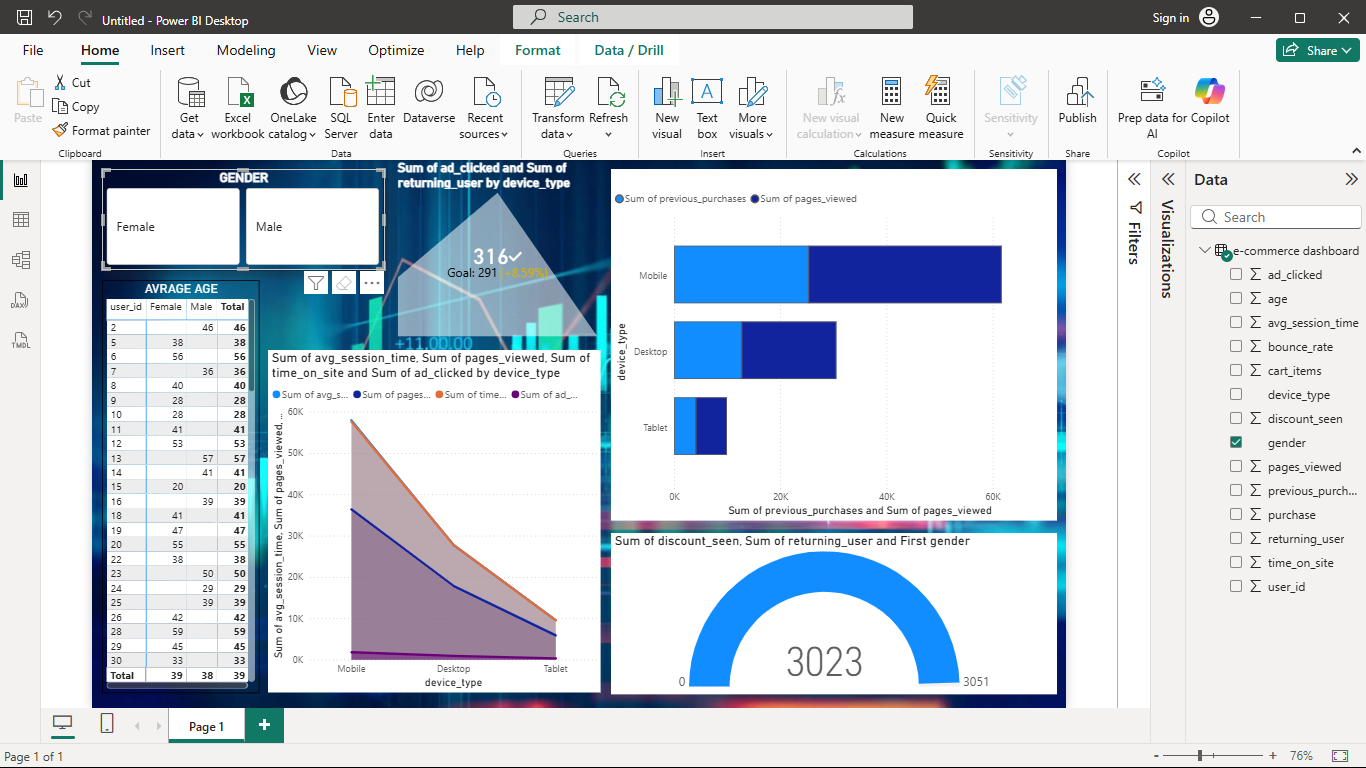

Layout of this report page (visuals, bound fields, positions):
{"tool":"powerbi","page":{"name":"Page 1","canvas":[1280,720],"ordinal":0},"visuals":[{"type":"advancedSlicerVisual","title":"GENDER","fields":{"Values":["e-commerce dashboard.gender"]},"box":[13.4,11.8,371.2,132.7],"z":0},{"type":"pivotTable","title":"AVRAGE AGE","fields":{"Rows":["e-commerce dashboard.user_id"],"Columns":["e-commerce dashboard.gender"],"Values":["Median(e-commerce dashboard.age)"]},"box":[13.4,157.9,206.6,542.6],"z":1000},{"type":"barChart","fields":{"Y":["Sum(e-commerce dashboard.previous_purchases)","Sum(e-commerce dashboard.pages_viewed)"],"Category":["e-commerce dashboard.device_type"]},"box":[682,11.8,586.2,461.9],"z":2000},{"type":"kpi","fields":{"Indicator":["Sum(e-commerce dashboard.ad_clicked)"],"TrendLine":["e-commerce dashboard.device_type"],"Goal":["Sum(e-commerce dashboard.returning_user)"]},"box":[396.4,0,272.1,236.9],"z":2001},{"type":"areaChart","fields":{"Y":["Sum(e-commerce dashboard.avg_session_time)","Sum(e-commerce dashboard.pages_viewed)","Sum(e-commerce dashboard.time_on_site)","Sum(e-commerce dashboard.ad_clicked)"],"Category":["e-commerce dashboard.device_type"]},"box":[231.8,250.3,436.7,450.2],"z":2002},{"type":"gauge","fields":{"Y":["Sum(e-commerce dashboard.discount_seen)"],"MaxValue":["Sum(e-commerce dashboard.returning_user)"]},"box":[682,490.5,586.2,211.7],"z":2003}]}

Visuals, with their boxes on the page's 1280x720 design canvas (x1, y1, x2, y2). These are canvas units, not pixel positions in the 1366x768 screenshot, which may show the page scaled, cropped or inside an application window:
"GENDER" advancedSlicerVisual: bbox=(13, 12, 385, 144)
"AVRAGE AGE" pivotTable: bbox=(13, 158, 220, 700)
barChart - Sum(e-commerce dashboard.previous_purchases) x Sum(e-commerce dashboard.pages_viewed): bbox=(682, 12, 1268, 474)
kpi - Sum(e-commerce dashboard.ad_clicked) x e-commerce dashboard.device_type: bbox=(396, 0, 668, 237)
areaChart - Sum(e-commerce dashboard.avg_session_time) x Sum(e-commerce dashboard.pages_viewed): bbox=(232, 250, 668, 700)
gauge - Sum(e-commerce dashboard.discount_seen) x Sum(e-commerce dashboard.returning_user): bbox=(682, 490, 1268, 702)
